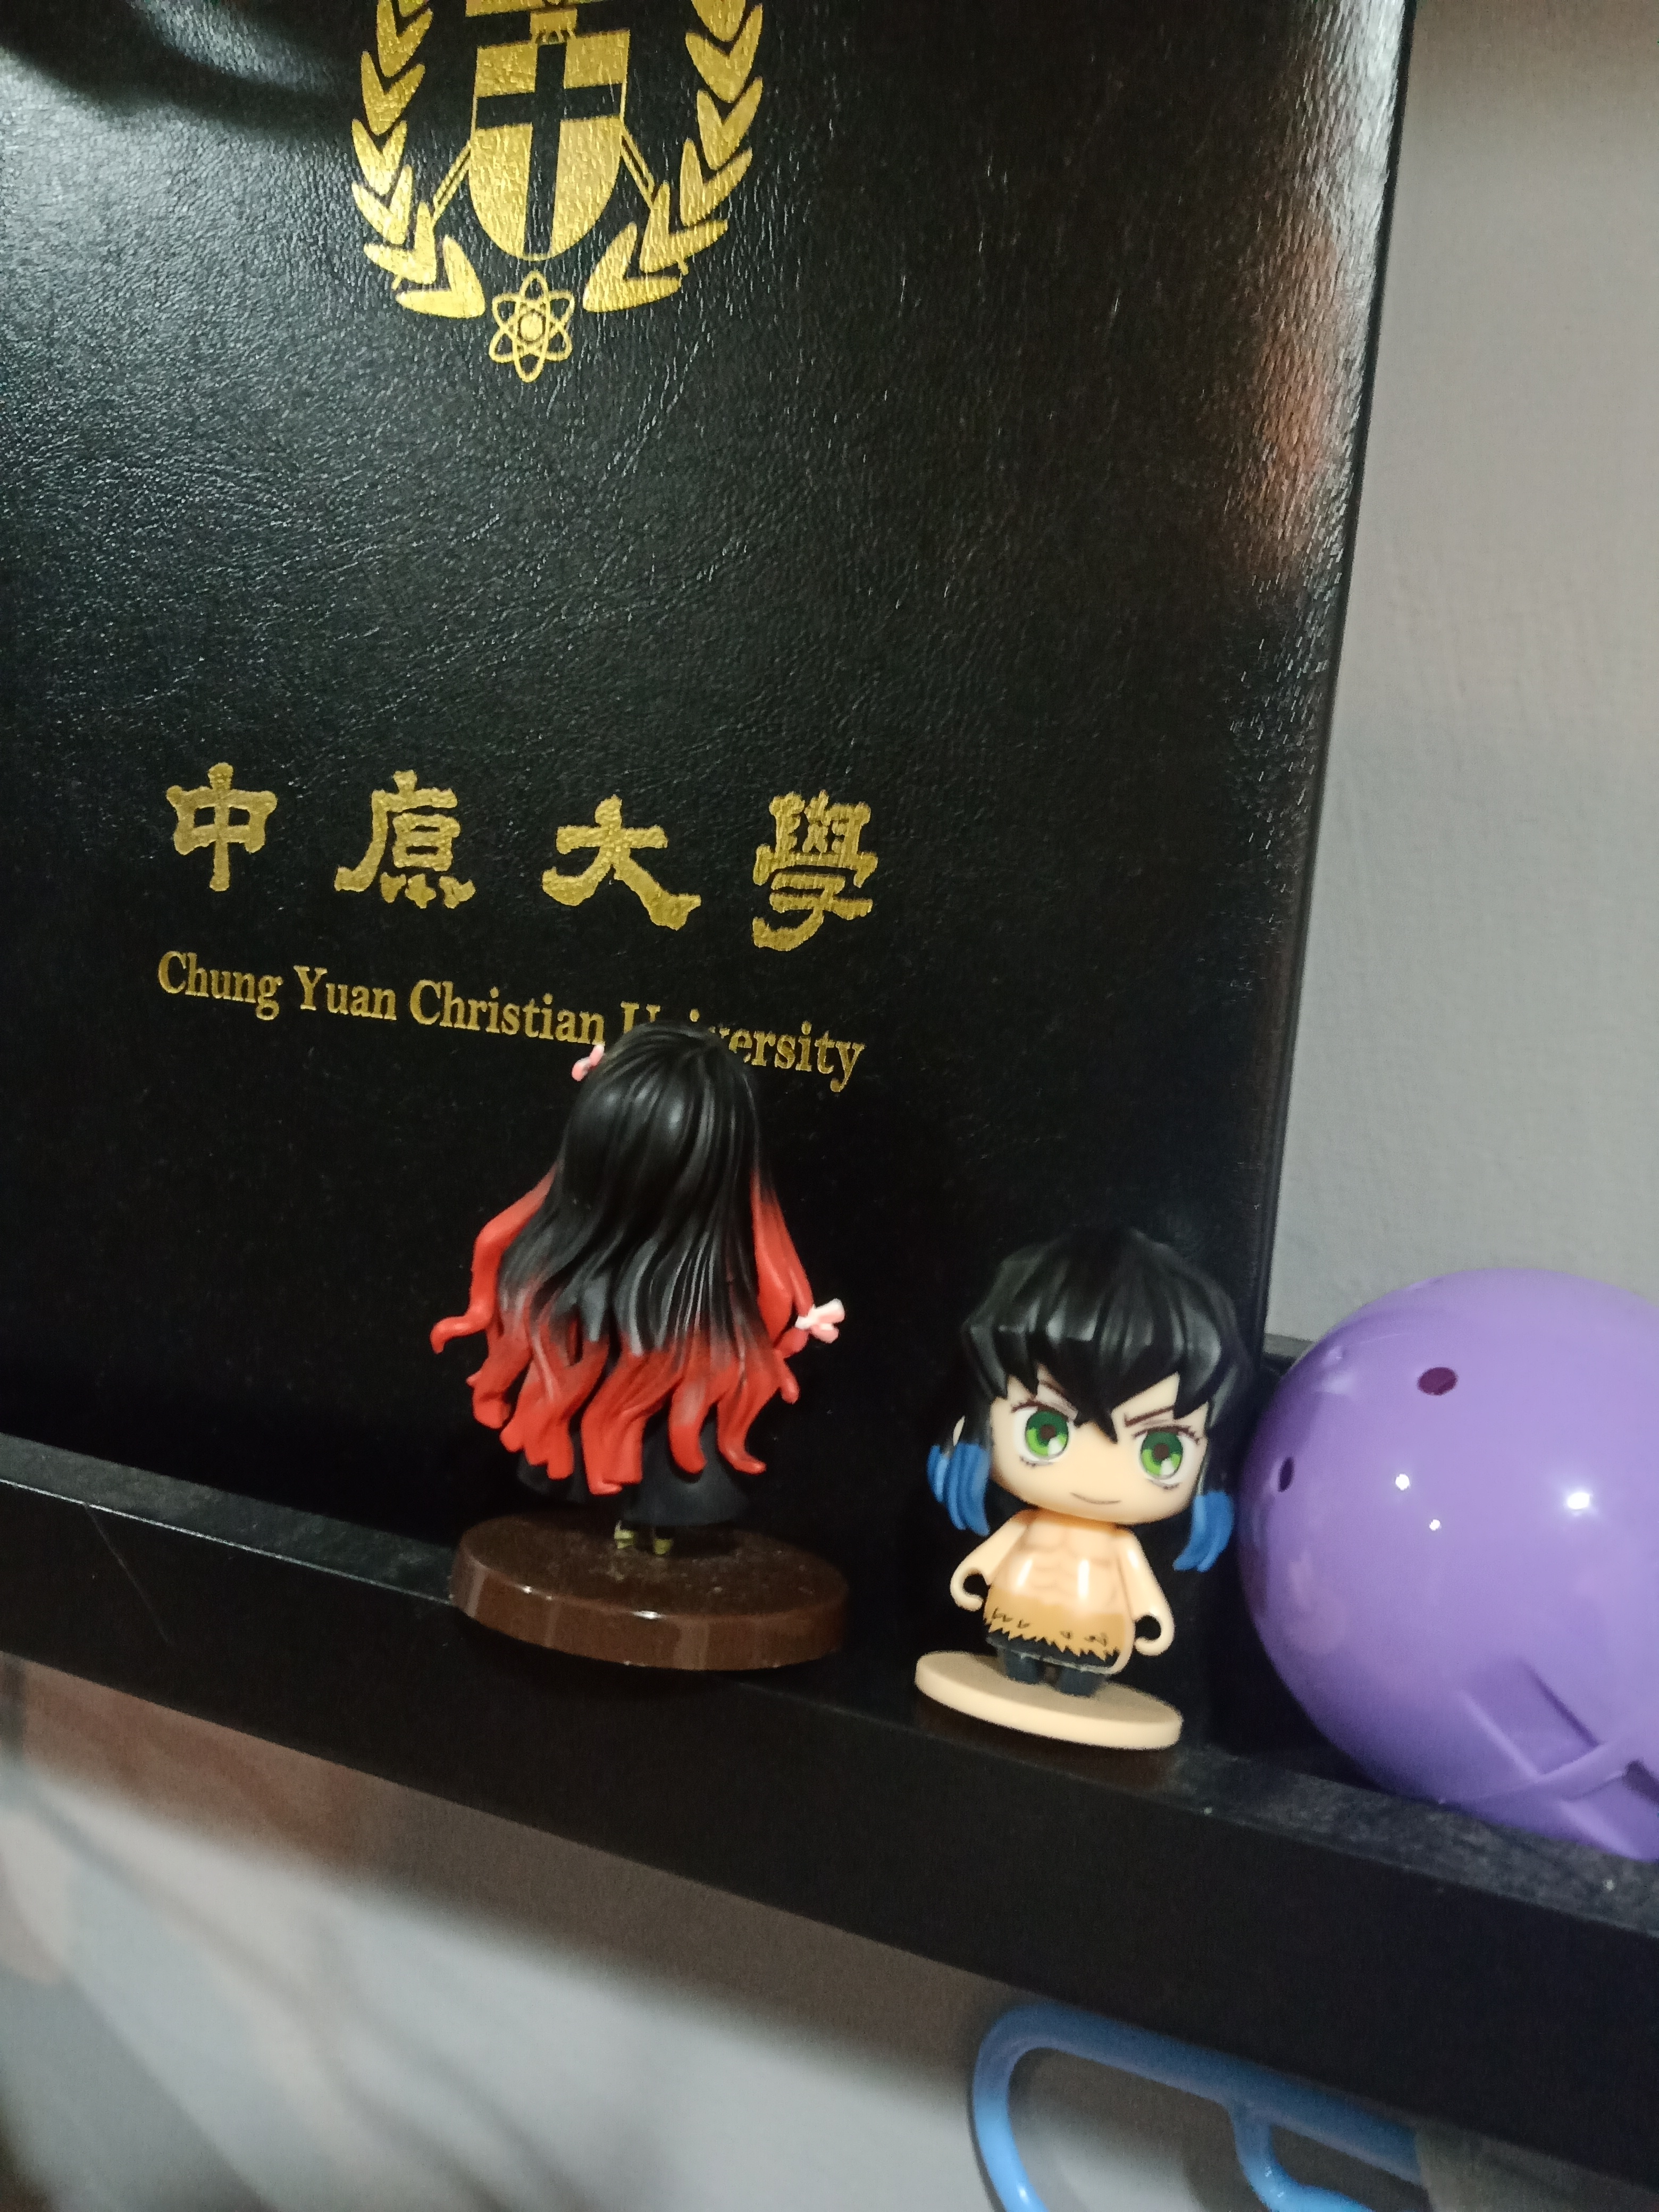Inosuke: (897, 1209, 1256, 1771)
Nezuko: (413, 1014, 877, 1700)
